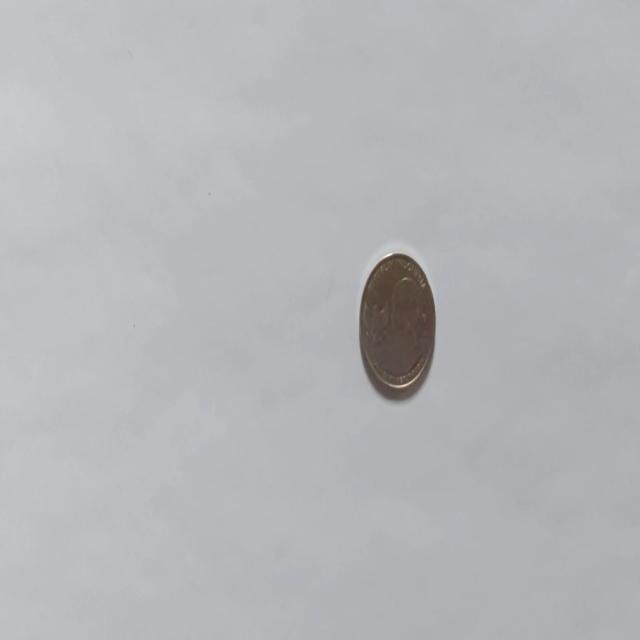seribu rupiah koin: (358, 248, 437, 398)
